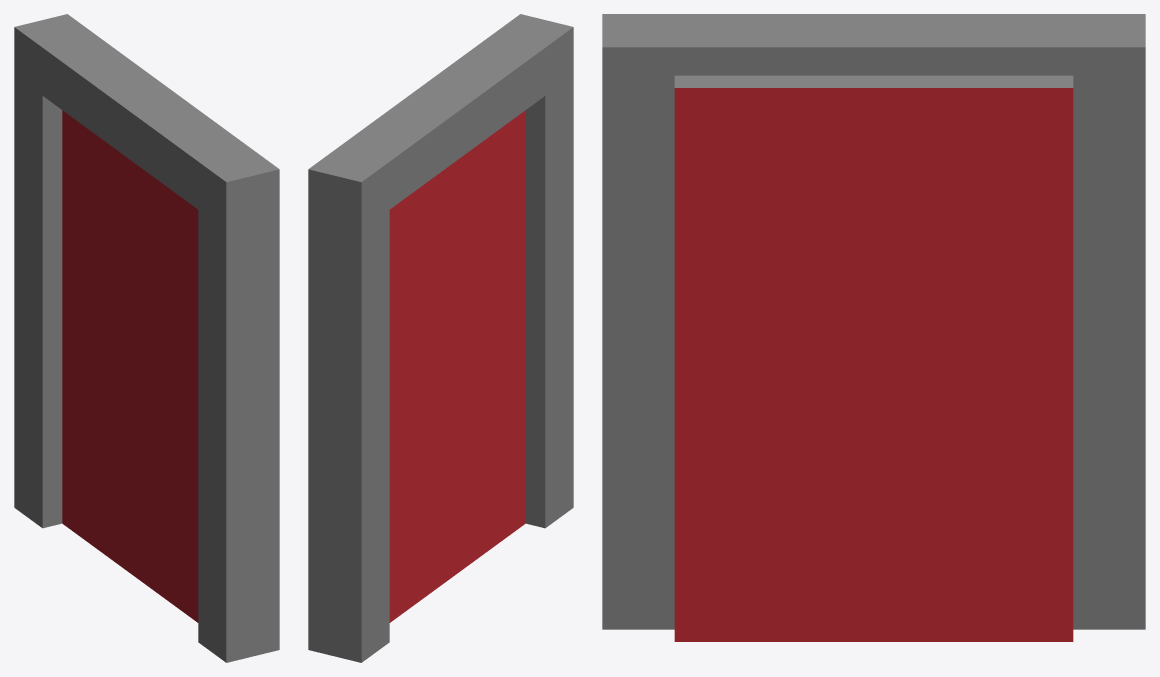
Rendered from door.fbx.
The picture shows the model from 3 angles, left to right: view 1: azimuth 30°, elevation 25°; view 2: azimuth 150°, elevation 25°; view 3: azimuth 270°, elevation 25°; orthographic projection. The views are drawn at different scales.
Visible parts, largest first — view 1: Plane; view 2: Plane; view 3: Plane.
Boxes of the visible parts, left/top/right/bottom form: Plane: left=14, top=14, right=279, bottom=662; Plane: left=308, top=14, right=573, bottom=662; Plane: left=602, top=14, right=1145, bottom=641.
Size of the model in its own units: 57.89 by 500 by 400.
